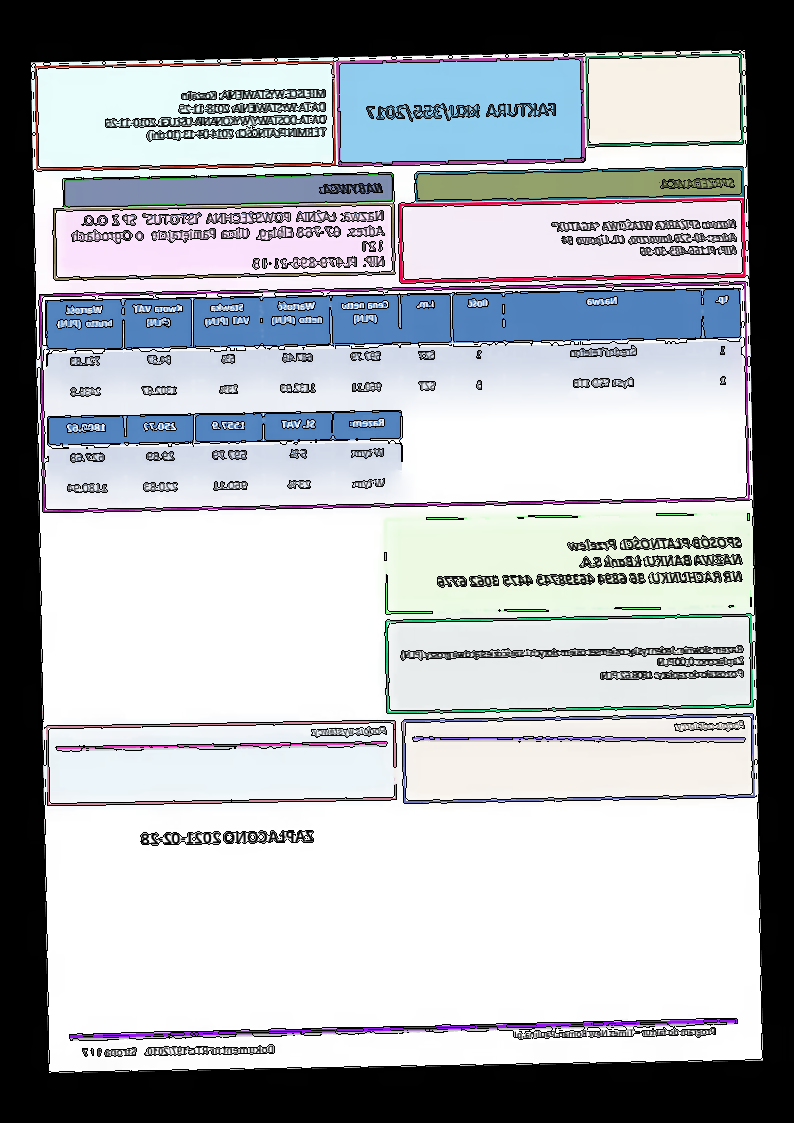Table: (45, 287, 744, 413), (45, 409, 404, 509)
TextBox: (70, 207, 388, 274), (435, 530, 746, 593), (397, 640, 746, 687), (104, 83, 328, 144), (550, 216, 739, 260), (365, 98, 559, 124), (78, 1041, 276, 1060), (511, 1024, 719, 1042), (139, 826, 316, 847), (657, 173, 738, 192), (308, 723, 388, 741), (673, 716, 747, 734), (317, 179, 385, 197)
